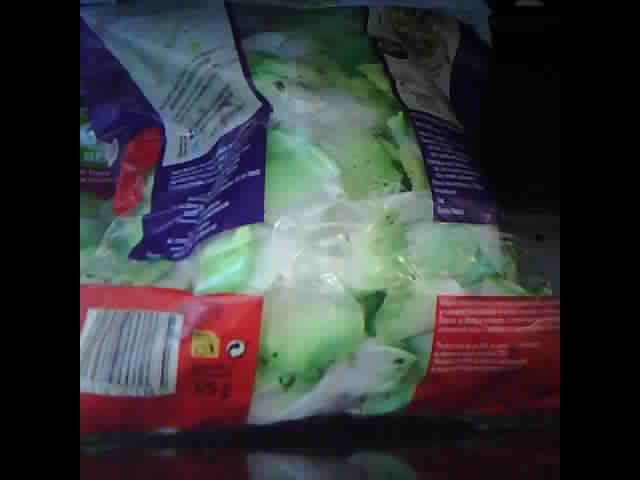florette: (85, 4, 554, 440)
